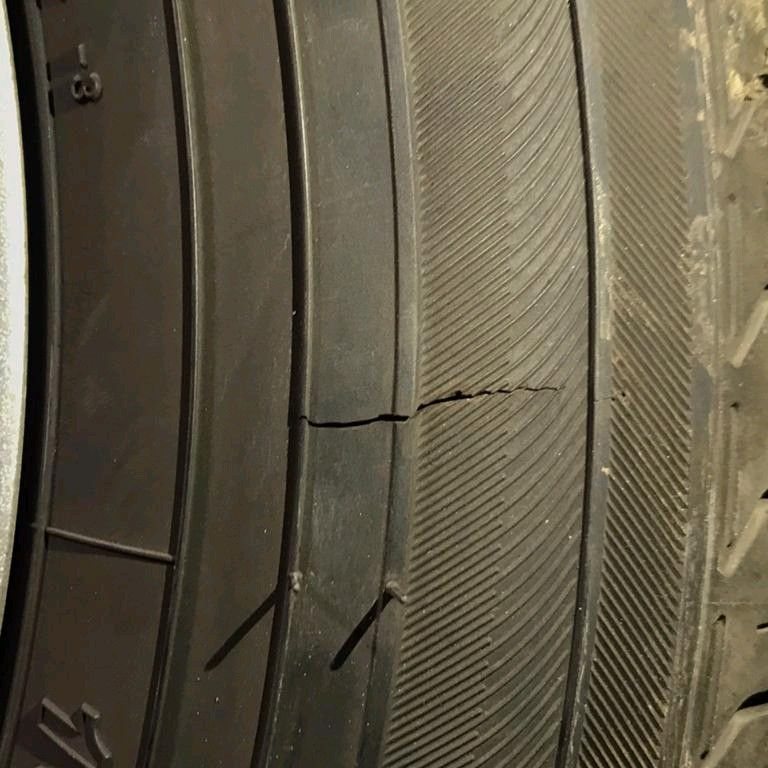cut: (293, 382, 567, 434)
